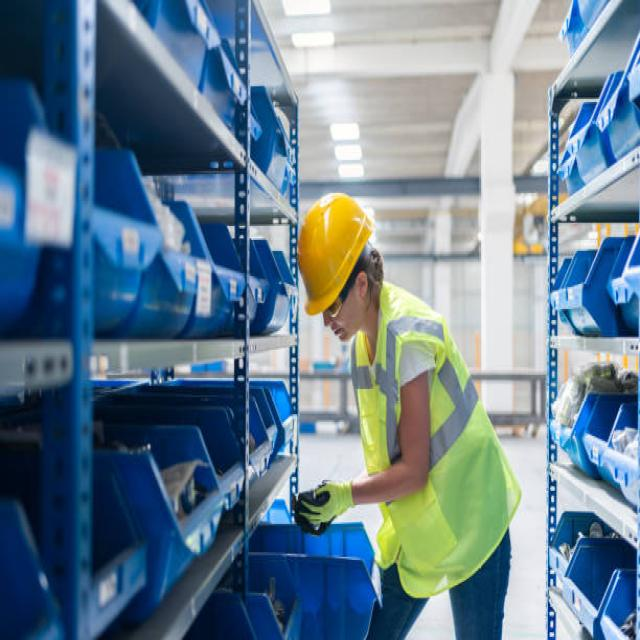Gloves: (291, 475, 359, 538)
Vest: (347, 280, 523, 601)
helmet: (298, 194, 377, 318)
person: (292, 193, 524, 640)
